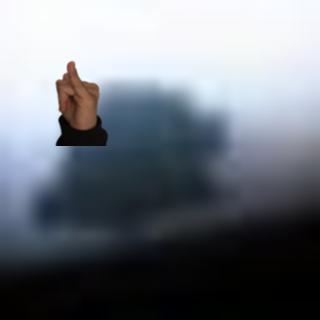HAVE: (50, 58, 107, 131)
